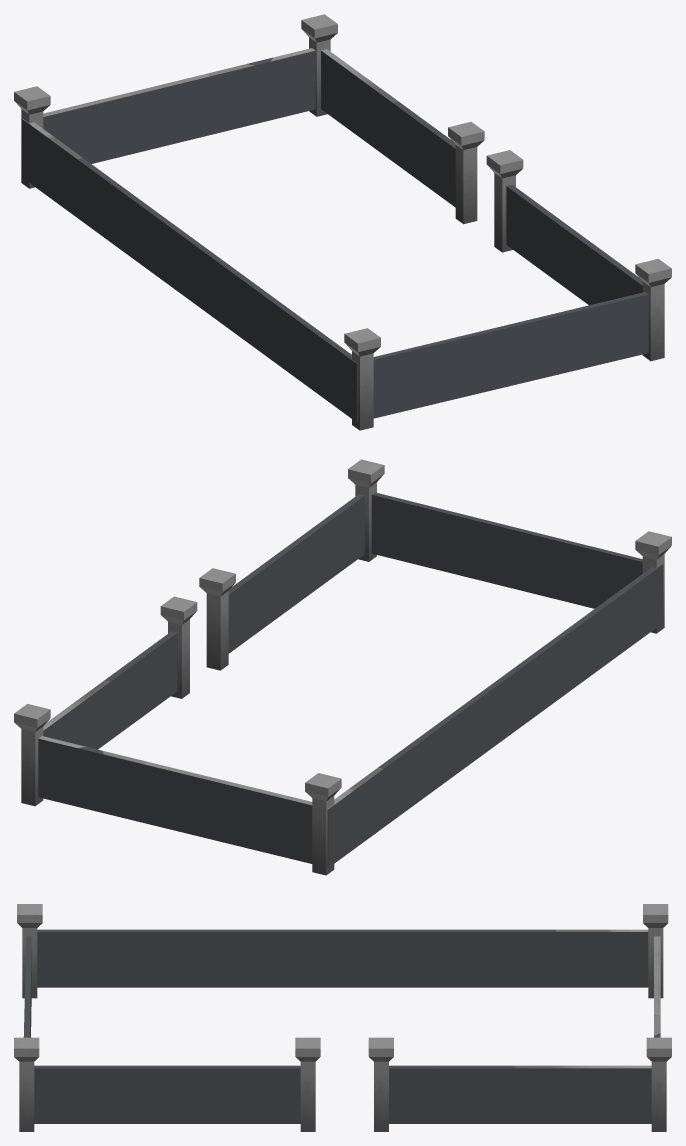
The model's file is supergate.fbx.
The picture shows the model from 3 angles, top to bottom: view 1: azimuth 30°, elevation 25°; view 2: azimuth 150°, elevation 25°; view 3: azimuth 270°, elevation 25°; orthographic projection. The views are drawn at different scales.
Visible parts, largest first — view 1: pCube435; view 2: pCube435; view 3: pCube435.
Boxes of the visible parts, <box> form: pCube435: <box>14,14,671,430</box>; pCube435: <box>14,459,671,875</box>; pCube435: <box>14,904,671,1131</box>.
Bounding box in the file's own units: 52.58 × 14.52 × 101.
Materials: 1 (1 with a texture image).
